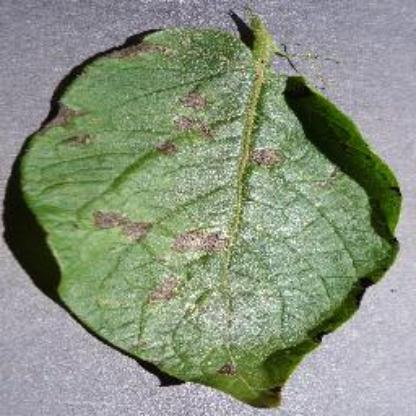Early-Blight: (15, 8, 411, 410)
